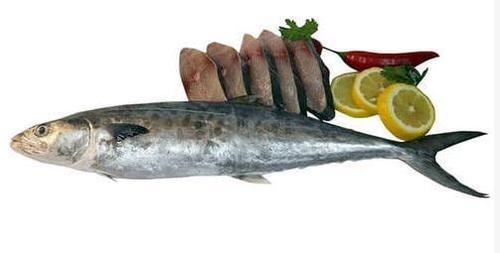Surmai: (9, 97, 491, 199)
